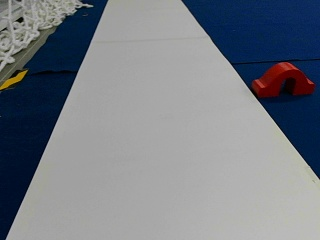bridge: (253, 62, 313, 95)
